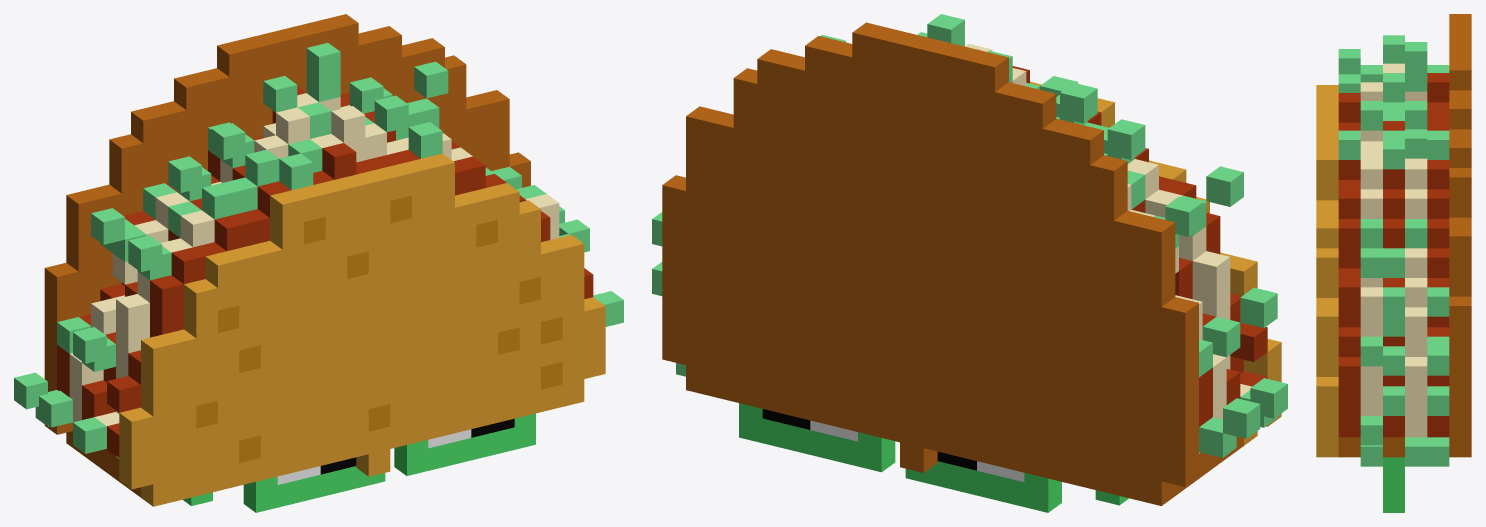
Rendered from tacos.glb.
3 renders of one model, left to right at view 1: azimuth 30°, elevation 25°; view 2: azimuth 150°, elevation 25°; view 3: azimuth 270°, elevation 25°, orthographic. The views are drawn at different scales.
Visible parts, largest first — view 1: base, salad, glasses, layer-2, a1; view 2: base, salad, glasses, layer-2, a1; view 3: base, salad, glasses.
Part boxes in pixels (x1,y1,x2,y2): base: [44, 14, 605, 506]; salad: [14, 43, 623, 453]; glasses: [183, 413, 535, 512]; layer-2: [277, 418, 514, 484]; a1: [356, 449, 390, 476]; base: [662, 22, 1281, 505]; salad: [652, 14, 1287, 457]; glasses: [739, 403, 1128, 512]; layer-2: [762, 409, 1024, 481]; a1: [900, 442, 937, 472]; base: [1316, 14, 1471, 457]; salad: [1338, 35, 1449, 466]; glasses: [1383, 457, 1404, 512].
Bounding box in the file's own units: 26 × 19 × 7.
Materials: 10 (10 with a texture image).
